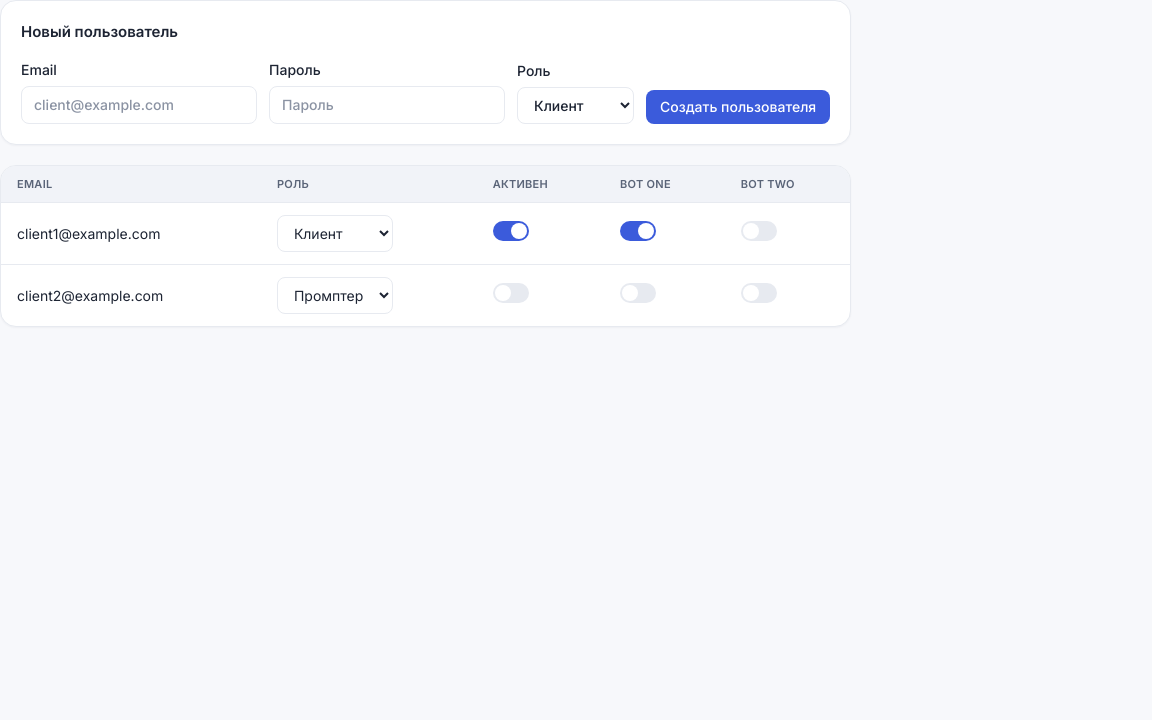
Test: creates a user (default role client) and adds it to the list
Type "new@example.com" into the field labelled "Email".
click(139, 104); type("new@example.com")  # box x1=21 y1=86 x2=257 y2=124
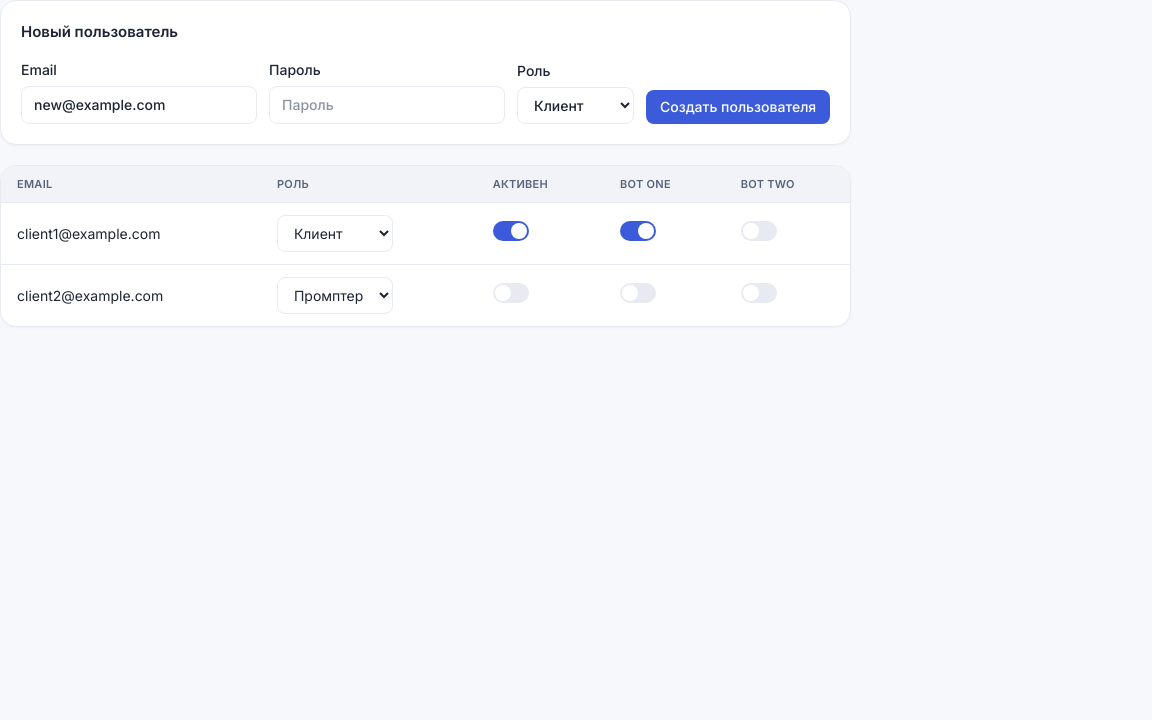
Type "secret123" into the password field labelled "Пароль".
click(387, 104); type("secret123")  # box x1=269 y1=86 x2=505 y2=124
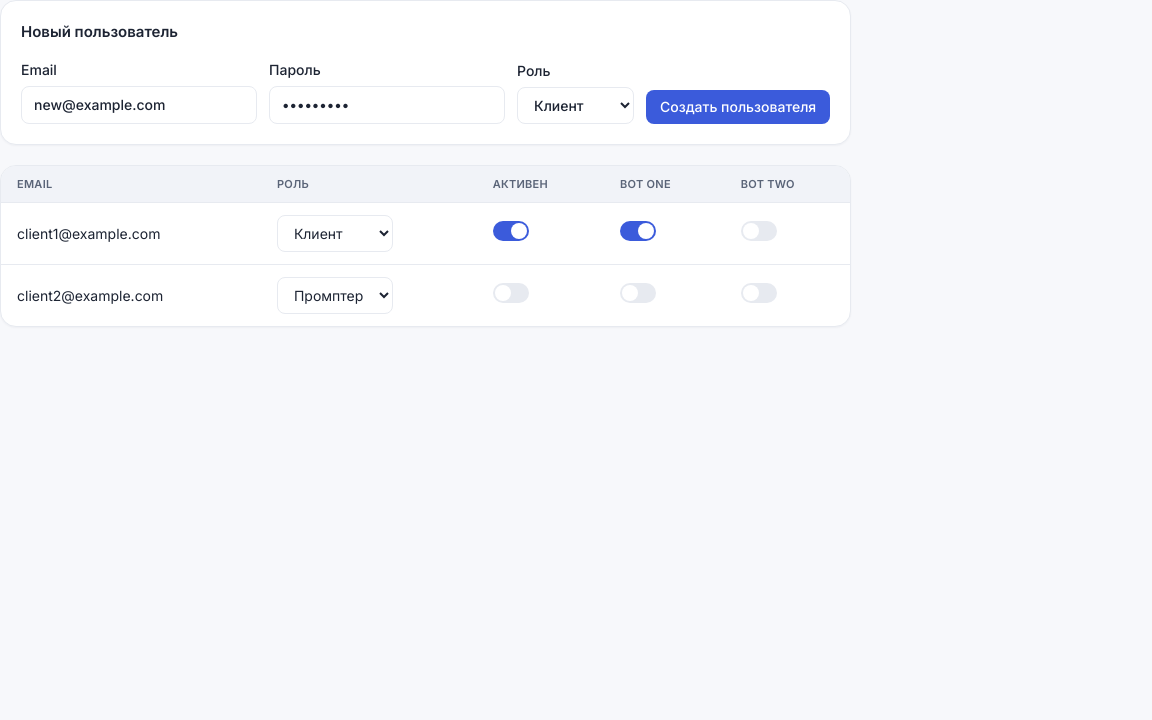
Click the button "Создать пользователя".
click(738, 107)  # box x1=646 y1=90 x2=830 y2=124
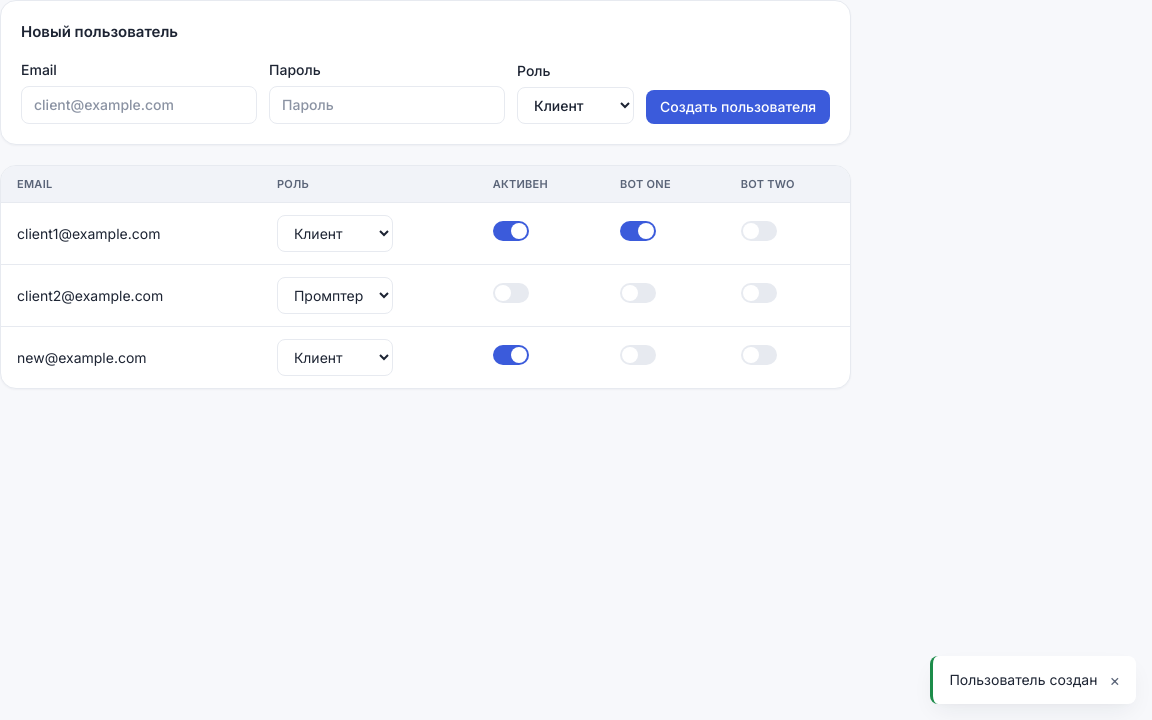
Expected: the text "new@example.com" is shown, x1=1 y1=326 x2=261 y2=388
Expected: the field labelled "Email" is empty, x1=21 y1=86 x2=257 y2=124
Expected: the password field labelled "Пароль" is empty, x1=269 y1=86 x2=505 y2=124
